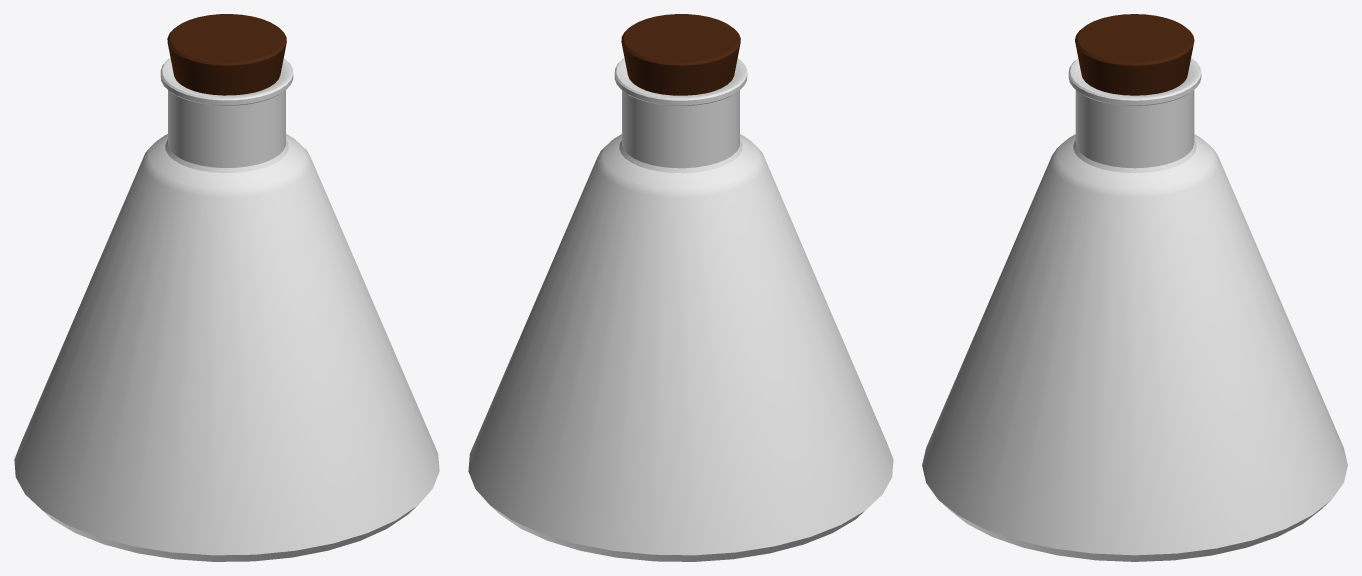
File: tri_flask.glb
The picture shows the model from 3 angles, left to right: view 1: azimuth 30°, elevation 25°; view 2: azimuth 150°, elevation 25°; view 3: azimuth 270°, elevation 25°; orthographic projection.
Visible parts, largest first — view 1: ConicalFlask_4, Cork_1_5; view 2: ConicalFlask_4, Cork_1_5; view 3: ConicalFlask_4, Cork_1_5.
Boxes of the visible parts, left/top/right/bottom form: ConicalFlask_4: left=14, top=58, right=439, bottom=561; Cork_1_5: left=167, top=14, right=286, bottom=95; ConicalFlask_4: left=468, top=58, right=893, bottom=561; Cork_1_5: left=621, top=14, right=740, bottom=95; ConicalFlask_4: left=922, top=58, right=1347, bottom=561; Cork_1_5: left=1075, top=14, right=1194, bottom=95.
Bounding box in the file's own units: 0.1544 × 0.1753 × 0.1544.
